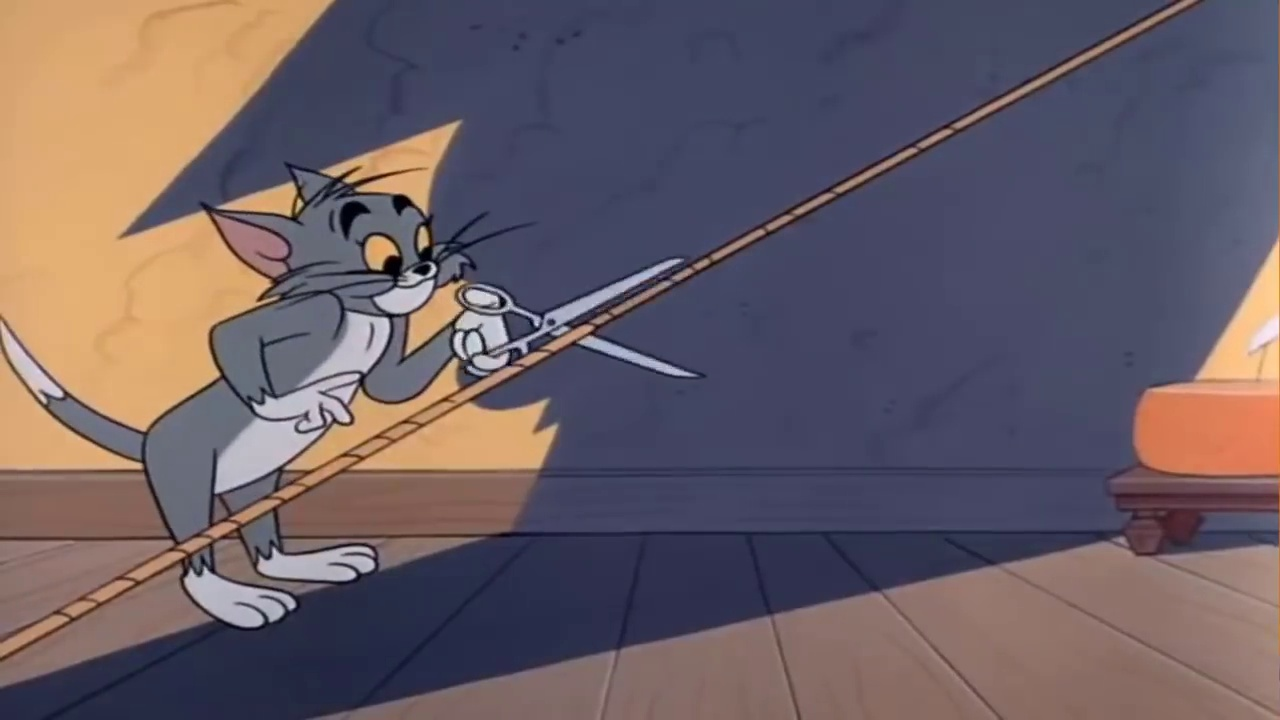face: (321, 192, 459, 317)
